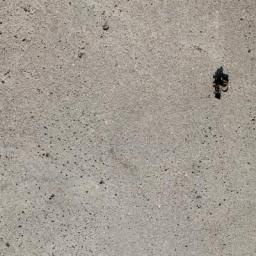FOD: (211, 63, 235, 103)
